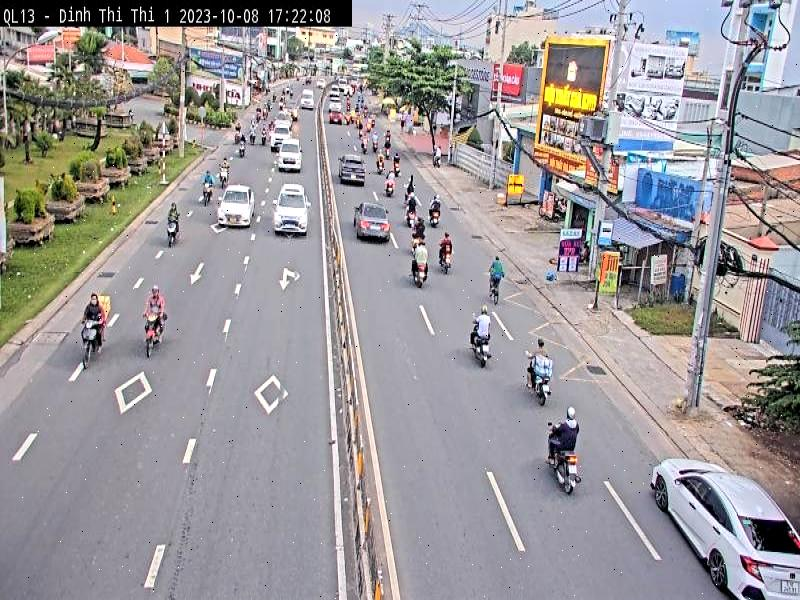car: (650, 458, 800, 599), (273, 185, 310, 236), (219, 186, 258, 229), (353, 203, 392, 243), (274, 142, 302, 174)
motorcycle: (142, 308, 173, 361), (546, 450, 582, 495), (470, 318, 493, 377), (80, 319, 106, 356), (529, 361, 552, 401), (408, 258, 432, 290), (165, 212, 180, 249), (382, 176, 398, 204), (430, 207, 447, 231), (202, 178, 214, 210), (220, 164, 228, 186)
